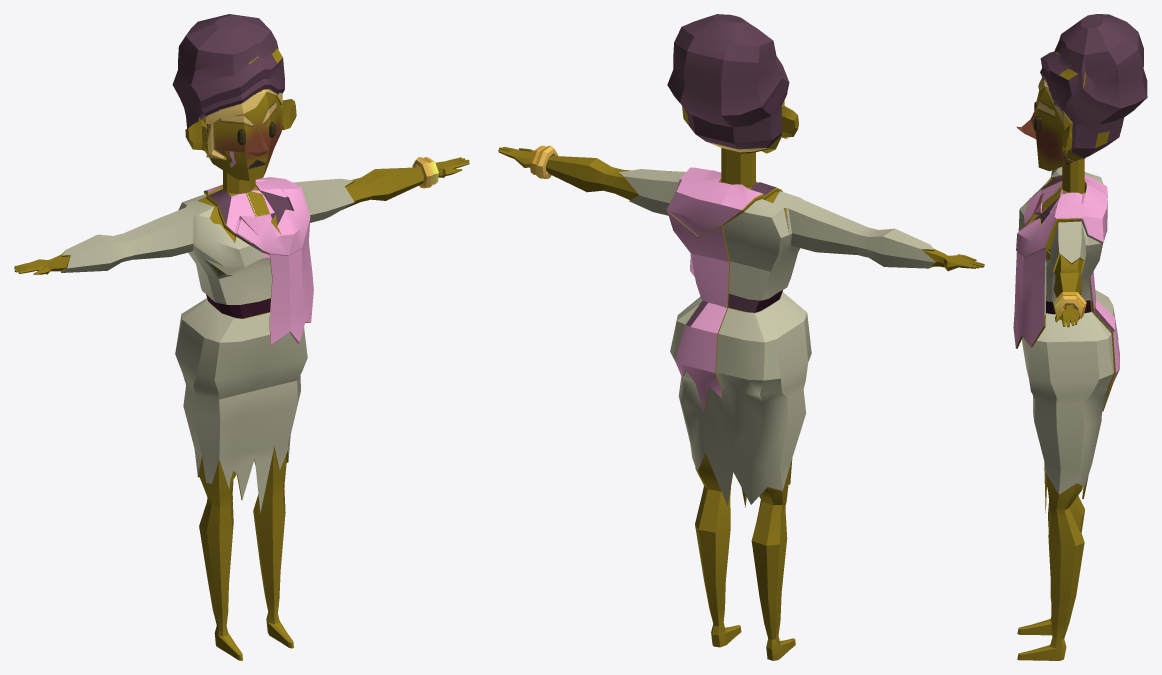
Rendered from hepatitis b_w.fbx.
3 renders of one model, left to right at view 1: azimuth 30°, elevation 25°; view 2: azimuth 150°, elevation 25°; view 3: azimuth 270°, elevation 25°, orthographic. The views are drawn at different scales.
Visible parts, largest first — view 1: Symmetry_1; view 2: Symmetry_1; view 3: Symmetry_1, Torus.
Boxes of the visible parts, left/top/right/bottom form: Symmetry_1: left=14, top=14, right=469, bottom=660; Symmetry_1: left=498, top=14, right=984, bottom=660; Symmetry_1: left=1013, top=14, right=1147, bottom=660; Torus: left=1054, top=296, right=1084, bottom=323.
Size of the model in its own units: 310 by 397 by 77.05.
Materials: 1 (1 with a texture image).
